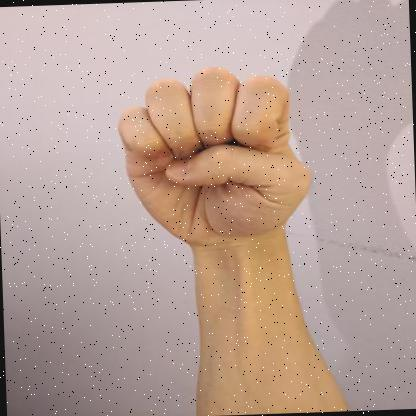E: (118, 67, 311, 251)
